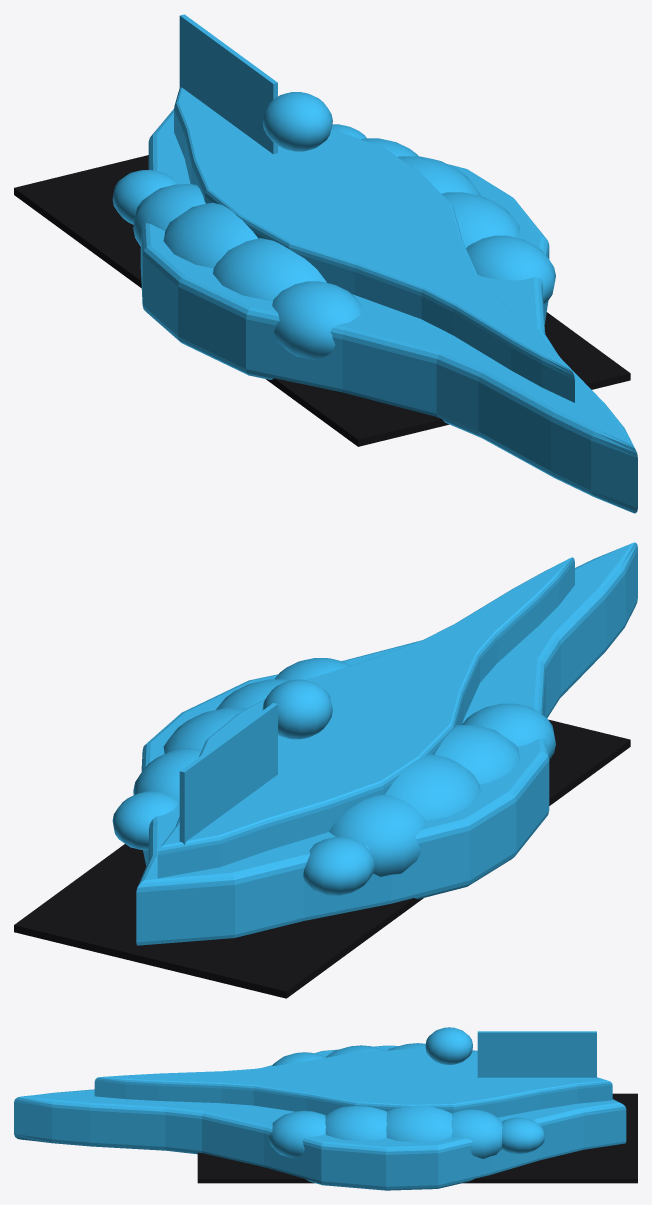
Rendered from academy-body.glb.
The picture shows the model from 3 angles, top to bottom: view 1: azimuth 30°, elevation 25°; view 2: azimuth 150°, elevation 25°; view 3: azimuth 270°, elevation 25°; orthographic projection. The views are drawn at different scales.
Parts seen in each view (by area): view 1: hull, cover, floor, fin, pod_-1_0, pod_-1_1, pod_-1_2, pod_1_0, airbox, pod_1_1, pod_-1_3, pod_-1_4 (+1 smaller); view 2: hull, cover, floor, fin, pod_-1_3, pod_-1_2, pod_-1_4, pod_-1_1, airbox, pod_-1_0, pod_1_4, pod_1_3 (+3 smaller); view 3: hull, cover, floor, fin, pod_1_2, pod_1_1, pod_1_3, pod_1_0, airbox, pod_1_4, pod_-1_0, pod_-1_1.
Boxes of the visible parts, x1,y1,x2,y2 form: hull: [140, 109, 637, 513]; cover: [174, 87, 574, 402]; floor: [14, 155, 630, 446]; fin: [179, 14, 277, 154]; pod_-1_0: [272, 281, 361, 359]; pod_-1_1: [213, 238, 326, 300]; pod_-1_2: [163, 202, 257, 268]; pod_1_0: [466, 235, 555, 303]; airbox: [262, 92, 332, 151]; pod_1_1: [441, 192, 520, 248]; pod_-1_3: [133, 184, 205, 246]; pod_-1_4: [112, 170, 177, 224]; hull: [136, 542, 637, 945]; cover: [157, 557, 574, 878]; floor: [14, 719, 630, 998]; fin: [179, 703, 277, 844]; pod_-1_3: [329, 794, 426, 876]; pod_-1_2: [385, 754, 480, 820]; pod_-1_4: [303, 837, 374, 895]; pod_-1_1: [435, 725, 520, 784]; airbox: [262, 679, 332, 739]; pod_-1_0: [462, 703, 555, 759]; pod_1_4: [112, 791, 177, 850]; pod_1_3: [133, 747, 201, 798]; hull: [14, 1045, 626, 1190]; cover: [94, 1049, 612, 1117]; floor: [197, 1093, 637, 1183]; fin: [477, 1031, 596, 1077]; pod_1_2: [386, 1106, 452, 1142]; pod_1_1: [325, 1106, 386, 1141]; pod_1_3: [451, 1109, 502, 1158]; pod_1_0: [268, 1110, 325, 1157]; airbox: [425, 1027, 472, 1064]; pod_1_4: [502, 1117, 544, 1154]; pod_-1_0: [272, 1052, 325, 1065]; pod_-1_1: [325, 1045, 386, 1057].
Bounding box in the file's own units: 0.4964 × 0.2435 × 1.24.
